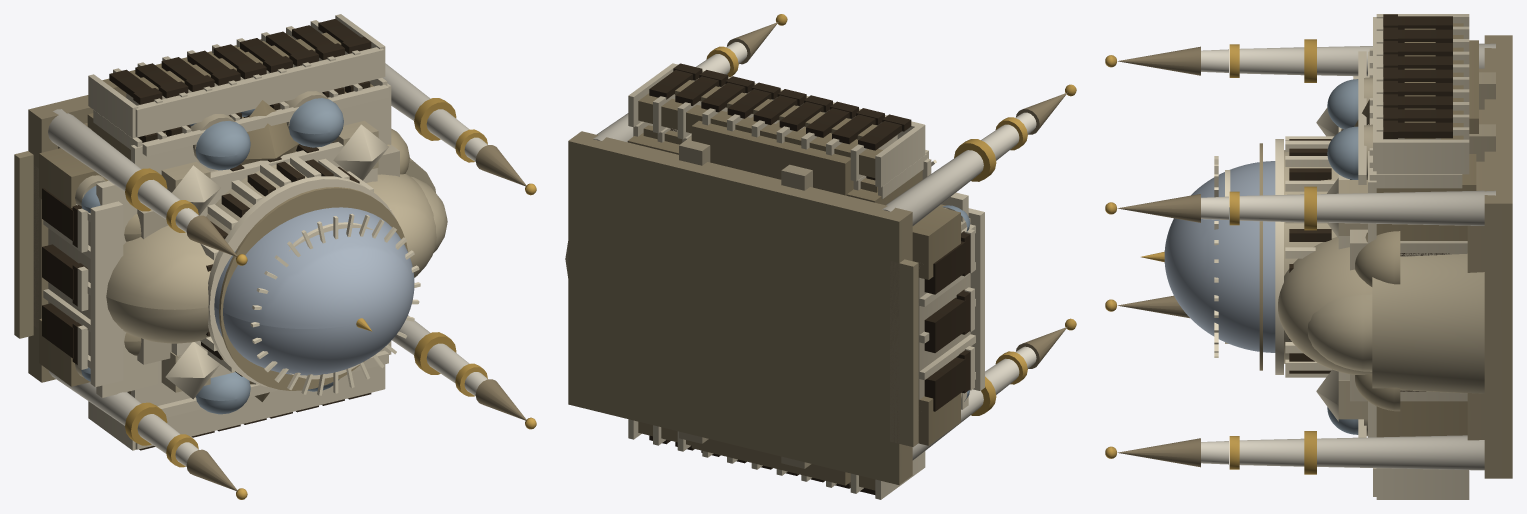
File: hagia-sophia.glb
3 renders of one model, left to right at view 1: azimuth 30°, elevation 25°; view 2: azimuth 150°, elevation 25°; view 3: azimuth 270°, elevation 25°, orthographic. The views are drawn at different scales.
Visible parts, largest first — view 1: part-cornice, part-dome, part-arch, part-semidome, part-wallShade, part-minaret, part-smallDome, part-gold, part-stair, part-podium, part-minaretCap, part-wall (+4 smaller); view 2: part-podium, part-wallShade, part-arch, part-cornice, part-minaret, part-stair, part-gold, part-minaretCap, part-buttress, part-wall; view 3: part-cornice, part-minaret, part-apse, part-podium, part-dome, part-arch, part-wallShade, part-semidome, part-minaretCap, part-gold, part-smallDome, part-exedra (+3 smaller).
Part boxes in pixels (left/top/right/bottom): part-cornice: left=43, top=14, right=420, bottom=450; part-dome: left=214, top=207, right=414, bottom=375; part-arch: left=42, top=19, right=371, bottom=450; part-semidome: left=106, top=174, right=436, bottom=343; part-wallShade: left=39, top=32, right=408, bottom=401; part-minaret: left=48, top=63, right=487, bottom=466; part-smallDome: left=81, top=98, right=343, bottom=414; part-gold: left=125, top=98, right=536, bottom=499; part-stair: left=14, top=151, right=38, bottom=338; part-podium: left=28, top=95, right=93, bottom=382; part-minaretCap: left=186, top=145, right=526, bottom=490; part-wall: left=48, top=144, right=399, bottom=364; part-podium: left=568, top=131, right=912, bottom=484; part-wallShade: left=627, top=80, right=960, bottom=490; part-arch: left=649, top=63, right=970, bottom=494; part-cornice: left=628, top=63, right=984, bottom=499; part-minaret: left=593, top=42, right=1036, bottom=460; part-stair: left=890, top=259, right=918, bottom=446; part-gold: left=706, top=14, right=1076, bottom=415; part-minaretCap: left=727, top=22, right=1067, bottom=368; part-buttress: left=679, top=136, right=812, bottom=468; part-wall: left=918, top=218, right=970, bottom=399; part-cornice: left=1214, top=14, right=1469, bottom=499; part-minaret: left=1201, top=43, right=1495, bottom=470; part-apse: left=1307, top=253, right=1484, bottom=393; part-podium: left=1467, top=35, right=1512, bottom=478; part-dome: left=1164, top=161, right=1275, bottom=352; part-arch: left=1289, top=14, right=1452, bottom=391; part-wallShade: left=1259, top=23, right=1478, bottom=437; part-semidome: left=1278, top=237, right=1372, bottom=374; part-minaretCap: left=1117, top=46, right=1200, bottom=467; part-gold: left=1105, top=39, right=1316, bottom=474; part-smallDome: left=1327, top=79, right=1358, bottom=434; part-exedra: left=1355, top=231, right=1400, bottom=411.
Size of the model in its own units: 1.55 by 1.44 by 1.45.
